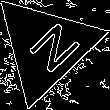N_SW: (13, 15, 78, 79)
